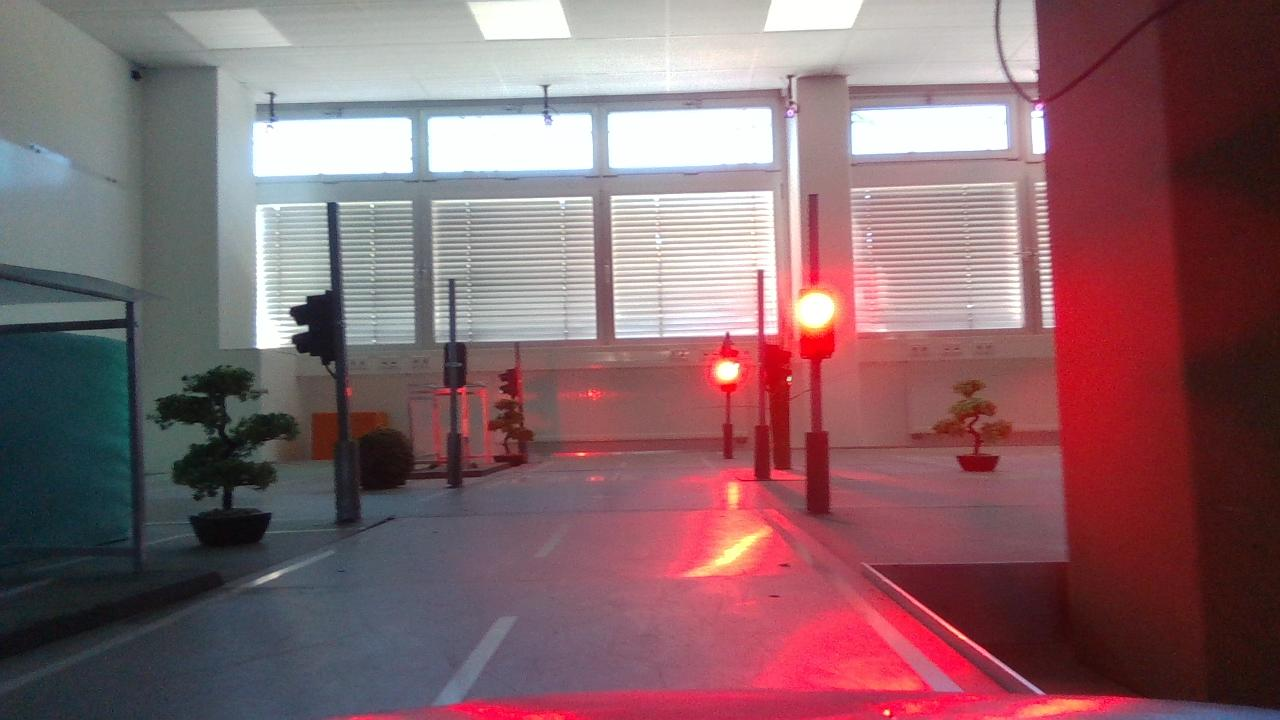traffic_light_red: (789, 283, 852, 373)
